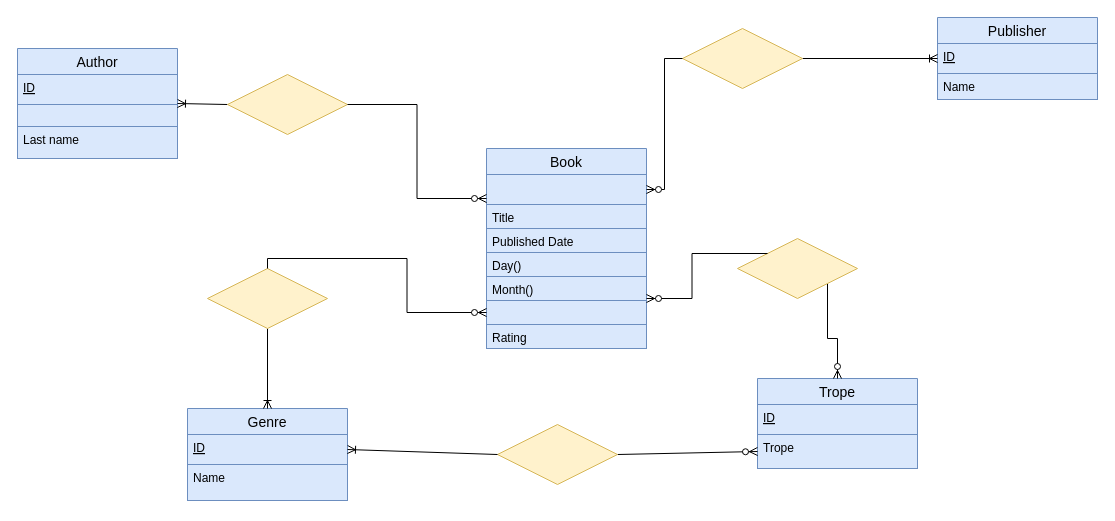
Some shapes in this 1115 by 521 pixel diagram are drawn without their labels. Here are the shapes that lost their labels. From the top down, the centre of each, then its label:
the point at 742,58: Publishes
the point at 97,115: First name
the point at 287,104: Has
the point at 566,189: ISBN ID
the point at 797,268: consists of
the point at 267,298: Belongs to
the point at 566,312: Year()
the point at 557,454: Is in
